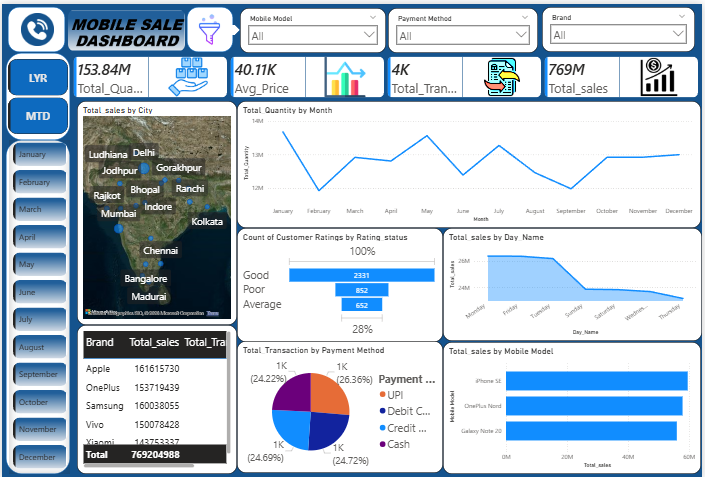

Layout of this report page (visuals, bound fields, positions):
{"tool":"powerbi","page":{"name":"Dashboard","canvas":[1400,950],"ordinal":0},"visuals":[{"type":"shape","box":[12,6,114,90],"z":0},{"type":"image","box":[34,18,74,66],"z":1000},{"type":"shape","box":[8,98,128,174],"z":2000},{"type":"shape","box":[8,272,128,668],"z":3000},{"type":"advancedSlicerVisual","fields":{"Values":["CustomCalander.Date.Variation.Date Hierarchy.Month"]},"box":[14.3,271.4,122.9,668.6],"z":4000},{"type":"cardVisual","fields":{"Data":["Sales_Data.Total_Quantity","Sales_Data.Avg_Price","Sales_Data.Total_Transaction","Sales_Data.Total_sales"]},"box":[136,98,1264,96],"z":5000},{"type":"slicer","fields":{"Values":["Sales_Data.Mobile Model"]},"box":[476,8,292,90],"z":6000},{"type":"slicer","fields":{"Values":["Sales_Data.Payment Method"]},"box":[772,8,300,90],"z":7000},{"type":"slicer","fields":{"Values":["Sales_Data.Brand"]},"box":[1080,6,306,90],"z":8000},{"type":"shape","box":[204,386,212,90],"z":9000},{"type":"shape","box":[370,6,92,90],"z":10000},{"type":"shape","box":[448,42,28,20],"z":11000},{"type":"image","box":[374.3,14.3,81.4,74.3],"z":12000},{"type":"map","fields":{"Category":["Sales_Data.City"],"Size":["Sales_Data.Total_sales"]},"box":[150,194,320,448],"z":13000},{"type":"lineChart","fields":{"Category":["CustomCalander.Date.Variation.Date Hierarchy.Month"],"Y":["Sales_Data.Total_Quantity"]},"box":[470,194,928,254],"z":14000},{"type":"funnel","fields":{"Category":["Sales_Data.Rating_status","Sales_Data.Customer Ratings"],"Y":["CountNonNull(Sales_Data.Customer Ratings)"]},"box":[470,448,412,228],"z":15000},{"type":"pieChart","fields":{"Y":["Sales_Data.Total_Transaction"],"Category":["Sales_Data.Payment Method"]},"box":[470,674,412,264],"z":16000},{"type":"areaChart","fields":{"Category":["CustomCalander.Day_Name"],"Y":["Sales_Data.Total_sales"]},"box":[882,448,518,226],"z":17000},{"type":"clusteredBarChart","fields":{"Y":["Sales_Data.Total_sales"],"Category":["Sales_Data.Mobile Model"]},"box":[882,676,516,264],"z":18000},{"type":"tableEx","fields":{"Values":["Sales_Data.Brand","Sales_Data.Total_sales","Sales_Data.Total_Transaction"]},"box":[150,642,320,298],"z":19000},{"type":"pageNavigator","box":[12,110,120,150],"z":20000},{"type":"image","box":[132,10,234,86],"z":21000}]}

Visuals, with their boxes in screenshot pixels (x1, y1, x2, y2), scaled from the page's 1400x950 canvas onto the 705x477 screenshot:
shape: <box>6,3,63,48</box>
image: <box>17,9,54,42</box>
shape: <box>4,49,68,137</box>
shape: <box>4,137,68,472</box>
advancedSlicerVisual - CustomCalander.Date.Variation.Date Hierarchy.Month: <box>7,136,69,472</box>
cardVisual - Sales_Data.Total_Quantity x Sales_Data.Avg_Price: <box>68,49,704,97</box>
slicer - Sales_Data.Mobile Model: <box>240,4,387,49</box>
slicer - Sales_Data.Payment Method: <box>389,4,540,49</box>
slicer - Sales_Data.Brand: <box>544,3,698,48</box>
shape: <box>103,194,209,239</box>
shape: <box>186,3,233,48</box>
shape: <box>226,21,240,31</box>
image: <box>188,7,229,44</box>
map - Sales_Data.City x Sales_Data.Total_sales: <box>76,97,237,322</box>
lineChart - CustomCalander.Date.Variation.Date Hierarchy.Month x Sales_Data.Total_Quantity: <box>237,97,704,225</box>
funnel - Sales_Data.Rating_status x Sales_Data.Customer Ratings: <box>237,225,444,339</box>
pieChart - Sales_Data.Total_Transaction x Sales_Data.Payment Method: <box>237,338,444,471</box>
areaChart - CustomCalander.Day_Name x Sales_Data.Total_sales: <box>444,225,704,338</box>
clusteredBarChart - Sales_Data.Total_sales x Sales_Data.Mobile Model: <box>444,339,704,472</box>
tableEx - Sales_Data.Brand x Sales_Data.Total_sales: <box>76,322,237,472</box>
pageNavigator: <box>6,55,66,131</box>
image: <box>66,5,184,48</box>
